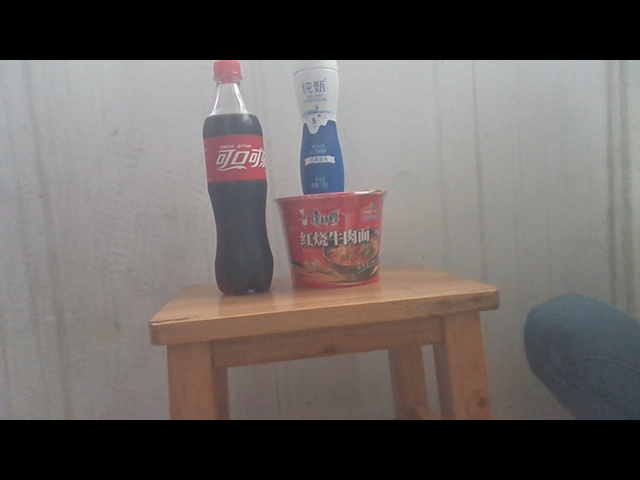cola: (202, 60, 275, 295)
kangshifu: (276, 190, 389, 291)
yogurt: (291, 60, 345, 195)
